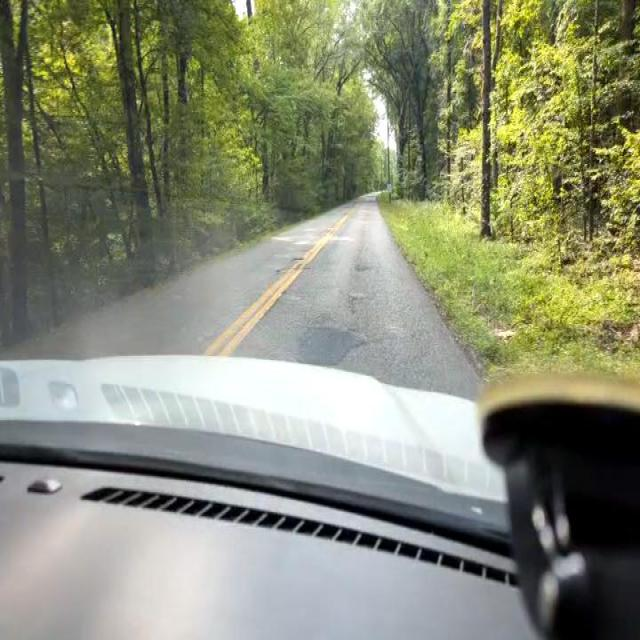pothole: (347, 289, 365, 315)
